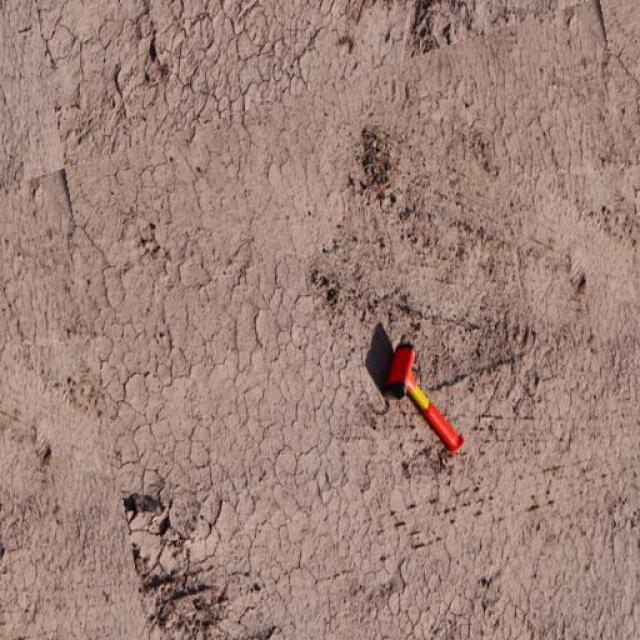mallet: (383, 342, 465, 455)
